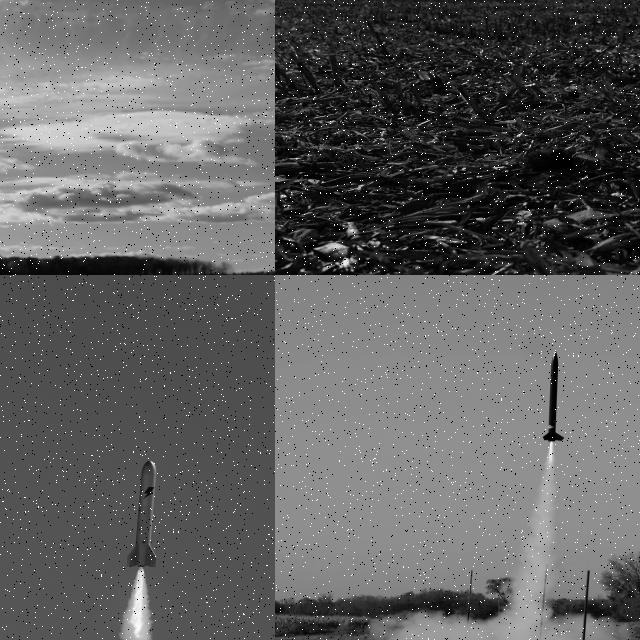Rocket: (121, 454, 166, 570), (542, 350, 565, 442)
